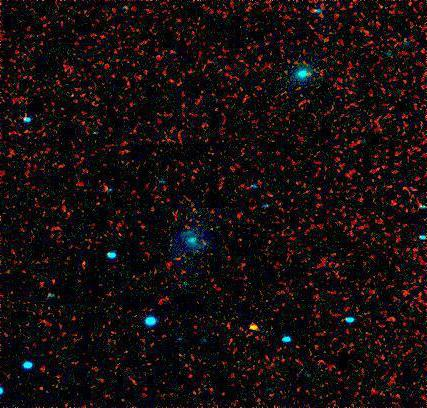star: (238, 312, 268, 342)
